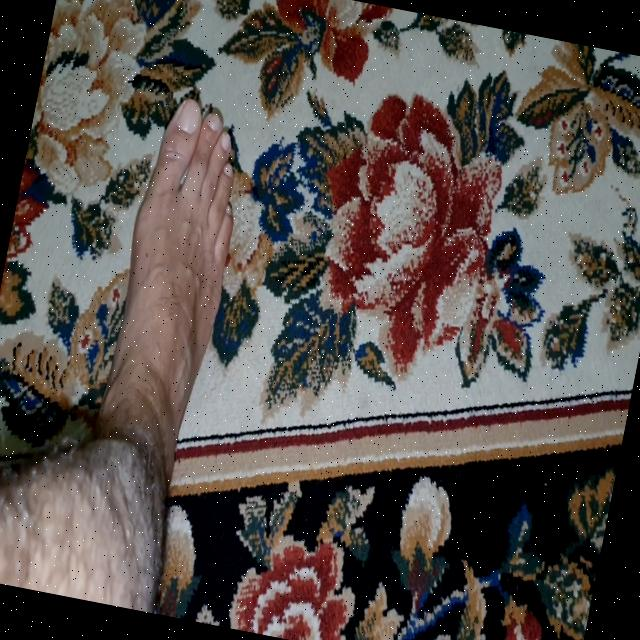no-boots: (60, 89, 263, 616)
